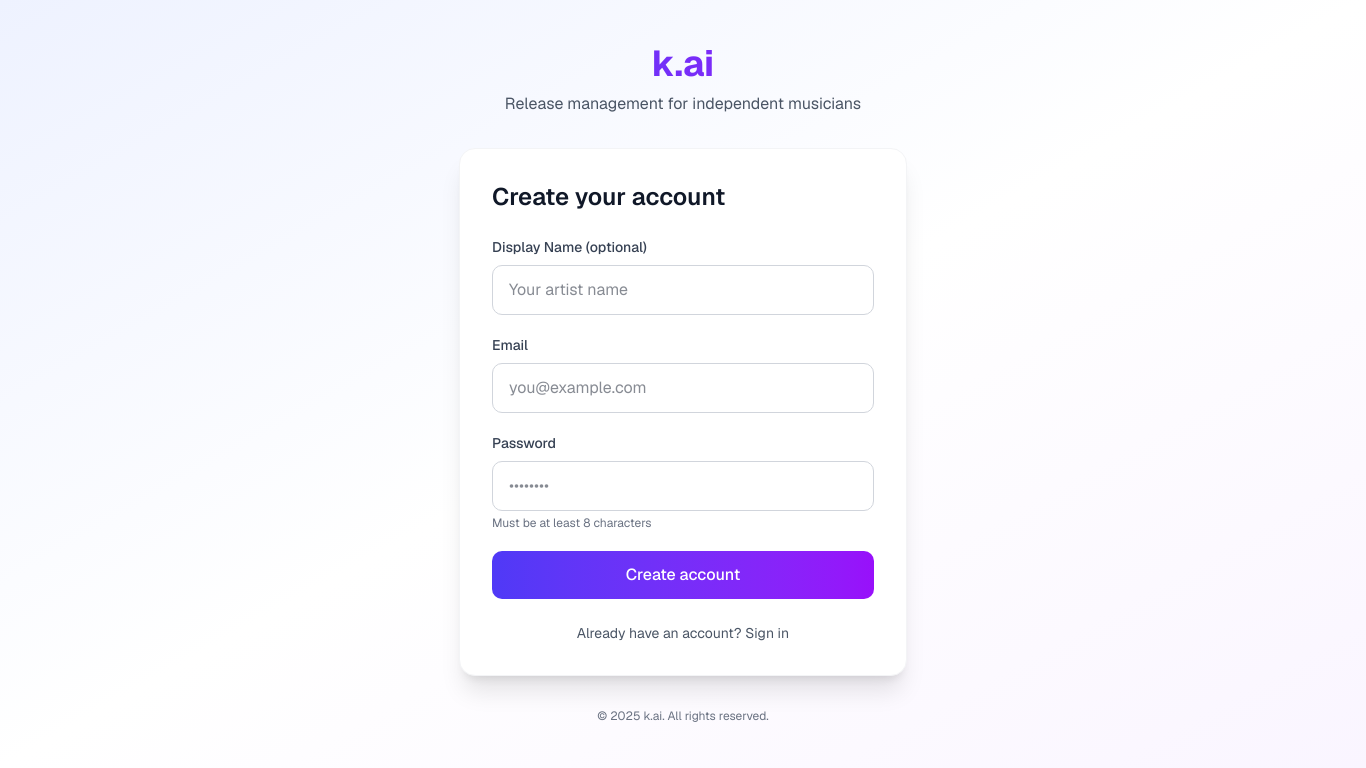
Scenario: SignupPage › validates password length before submission
This screenshot has width=1366, height=768.
Type "test@example.com" into the field with placeholder "you@example.com" at (683, 388), box [492,363,874,413]
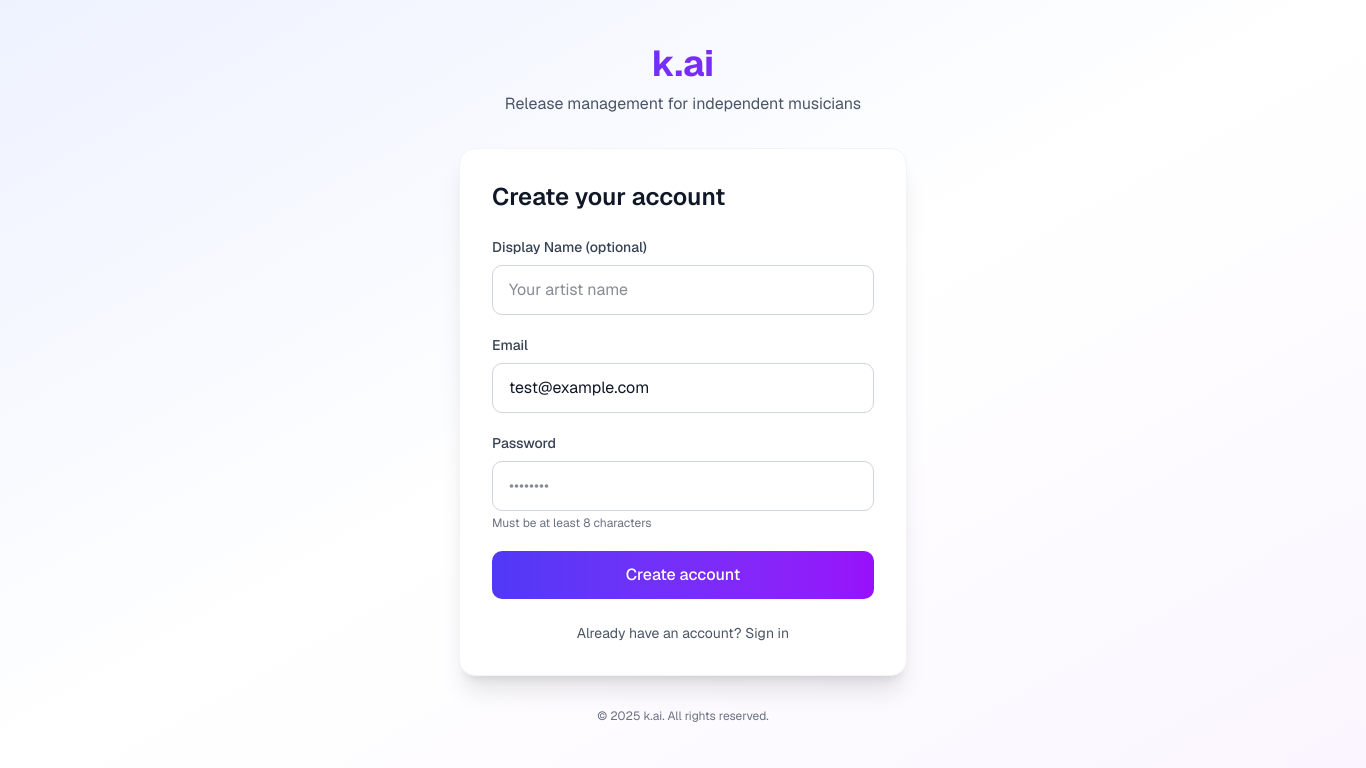
Type "short" into the password field with placeholder "••••••••" at (683, 486), box [492,461,874,511]
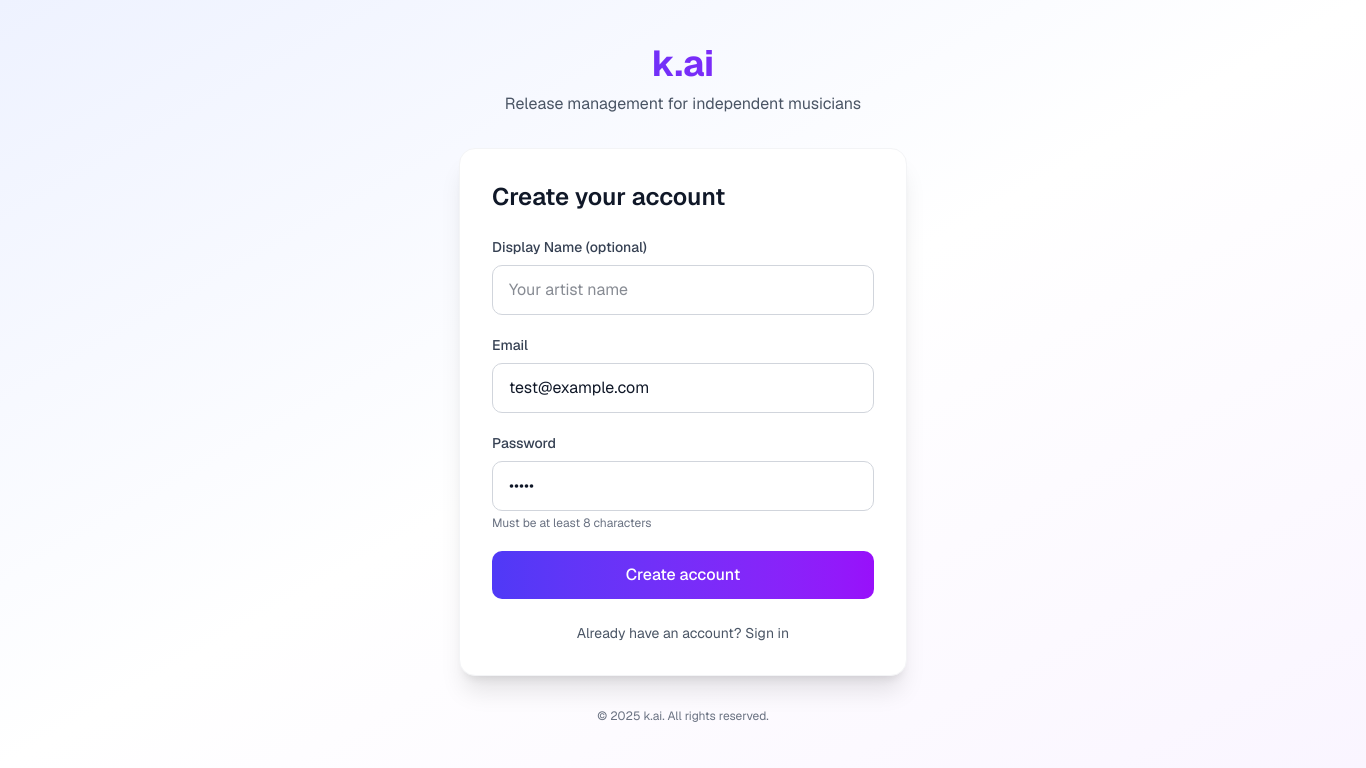
Click the button "Create account" at (683, 575), box [492,551,874,599]
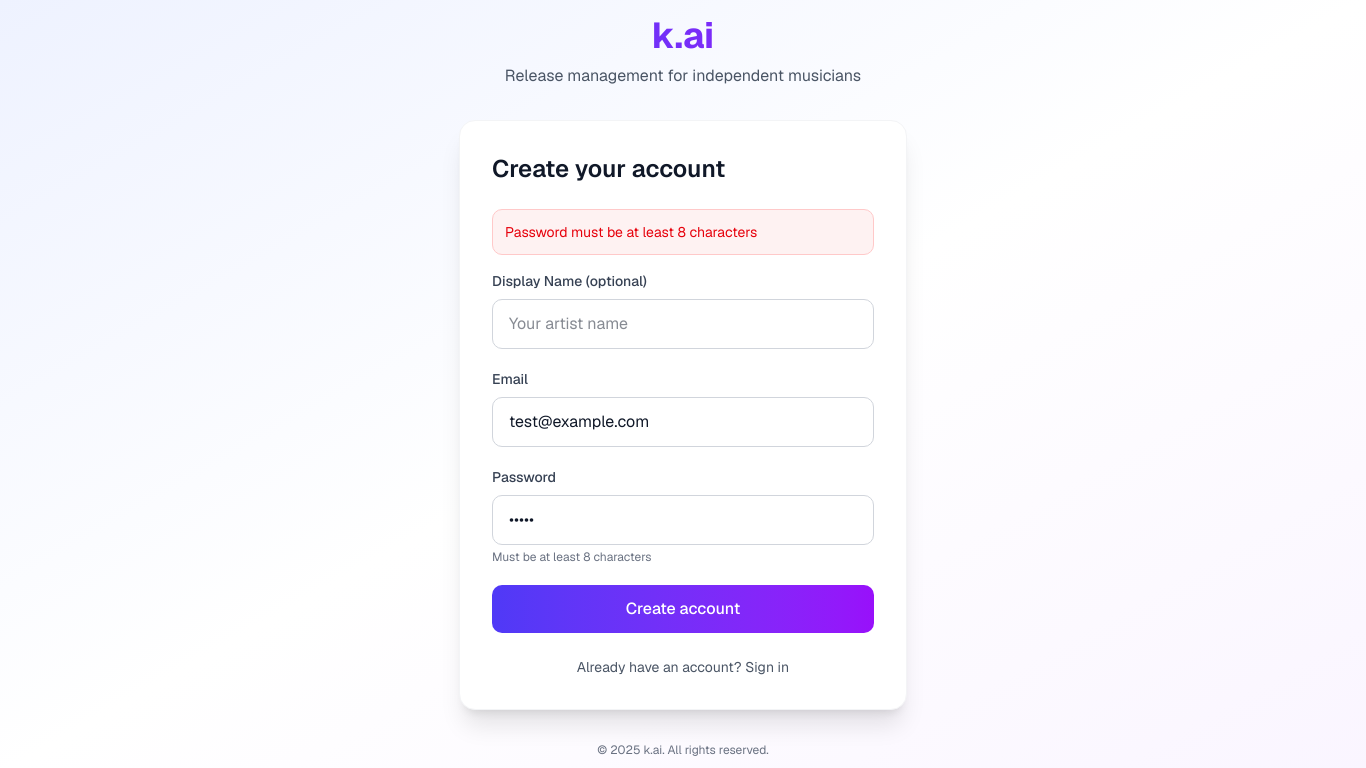
Check: the text "Password must be at least 8 characters" is shown, box [492,209,874,255]
